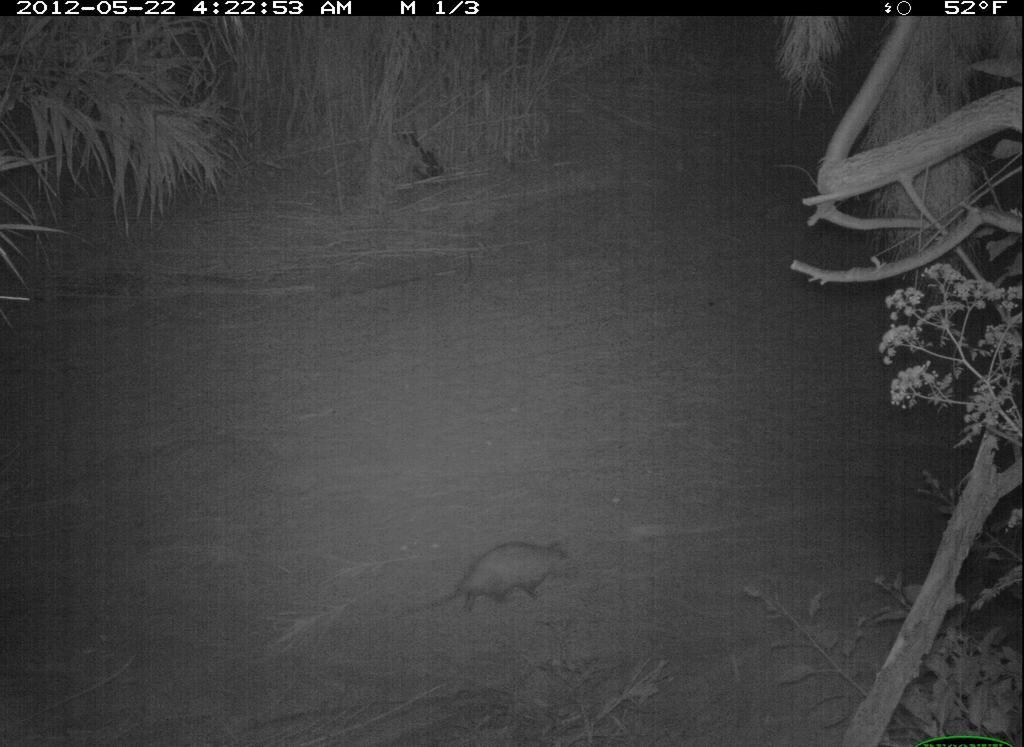opossum: (406, 528, 593, 639)
